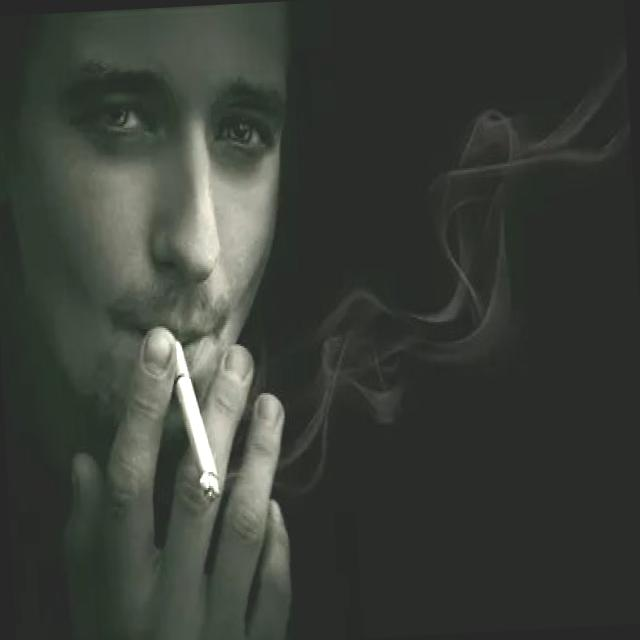cigarette: (162, 332, 222, 508)
